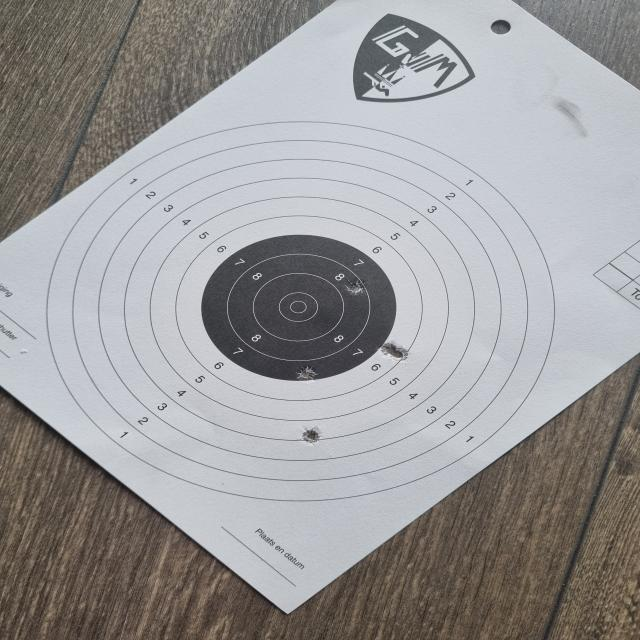5: (301, 428, 322, 446)
7: (394, 348, 410, 360)
8: (378, 340, 396, 356), (297, 366, 317, 380)
9: (342, 279, 368, 297)
Black Contour: (200, 234, 398, 380)
Target: (45, 121, 556, 502)
